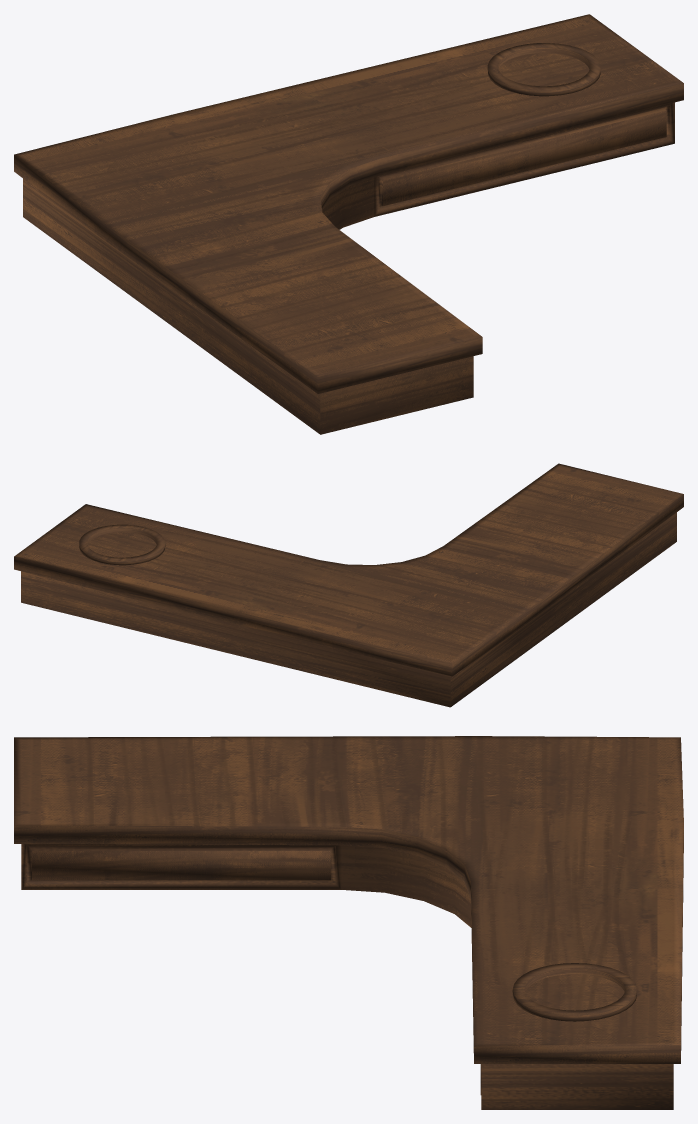
File: CofeeShop_Desk.glb
3 renders of one model, top to bottom at view 1: azimuth 30°, elevation 25°; view 2: azimuth 150°, elevation 25°; view 3: azimuth 270°, elevation 25°, orthographic. The views are drawn at different scales.
Parts seen in each view (by area): view 1: MainDesk_TeaShop; view 2: MainDesk_TeaShop; view 3: MainDesk_TeaShop.
Boxes of the visible parts, x1,y1,x2,y2 form: MainDesk_TeaShop: (14, 14, 683, 434); MainDesk_TeaShop: (14, 463, 683, 707); MainDesk_TeaShop: (14, 736, 683, 1109).
Bounding box in the file's own units: 2.1 × 0.2329 × 1.92.
1 material, 1 textured.
